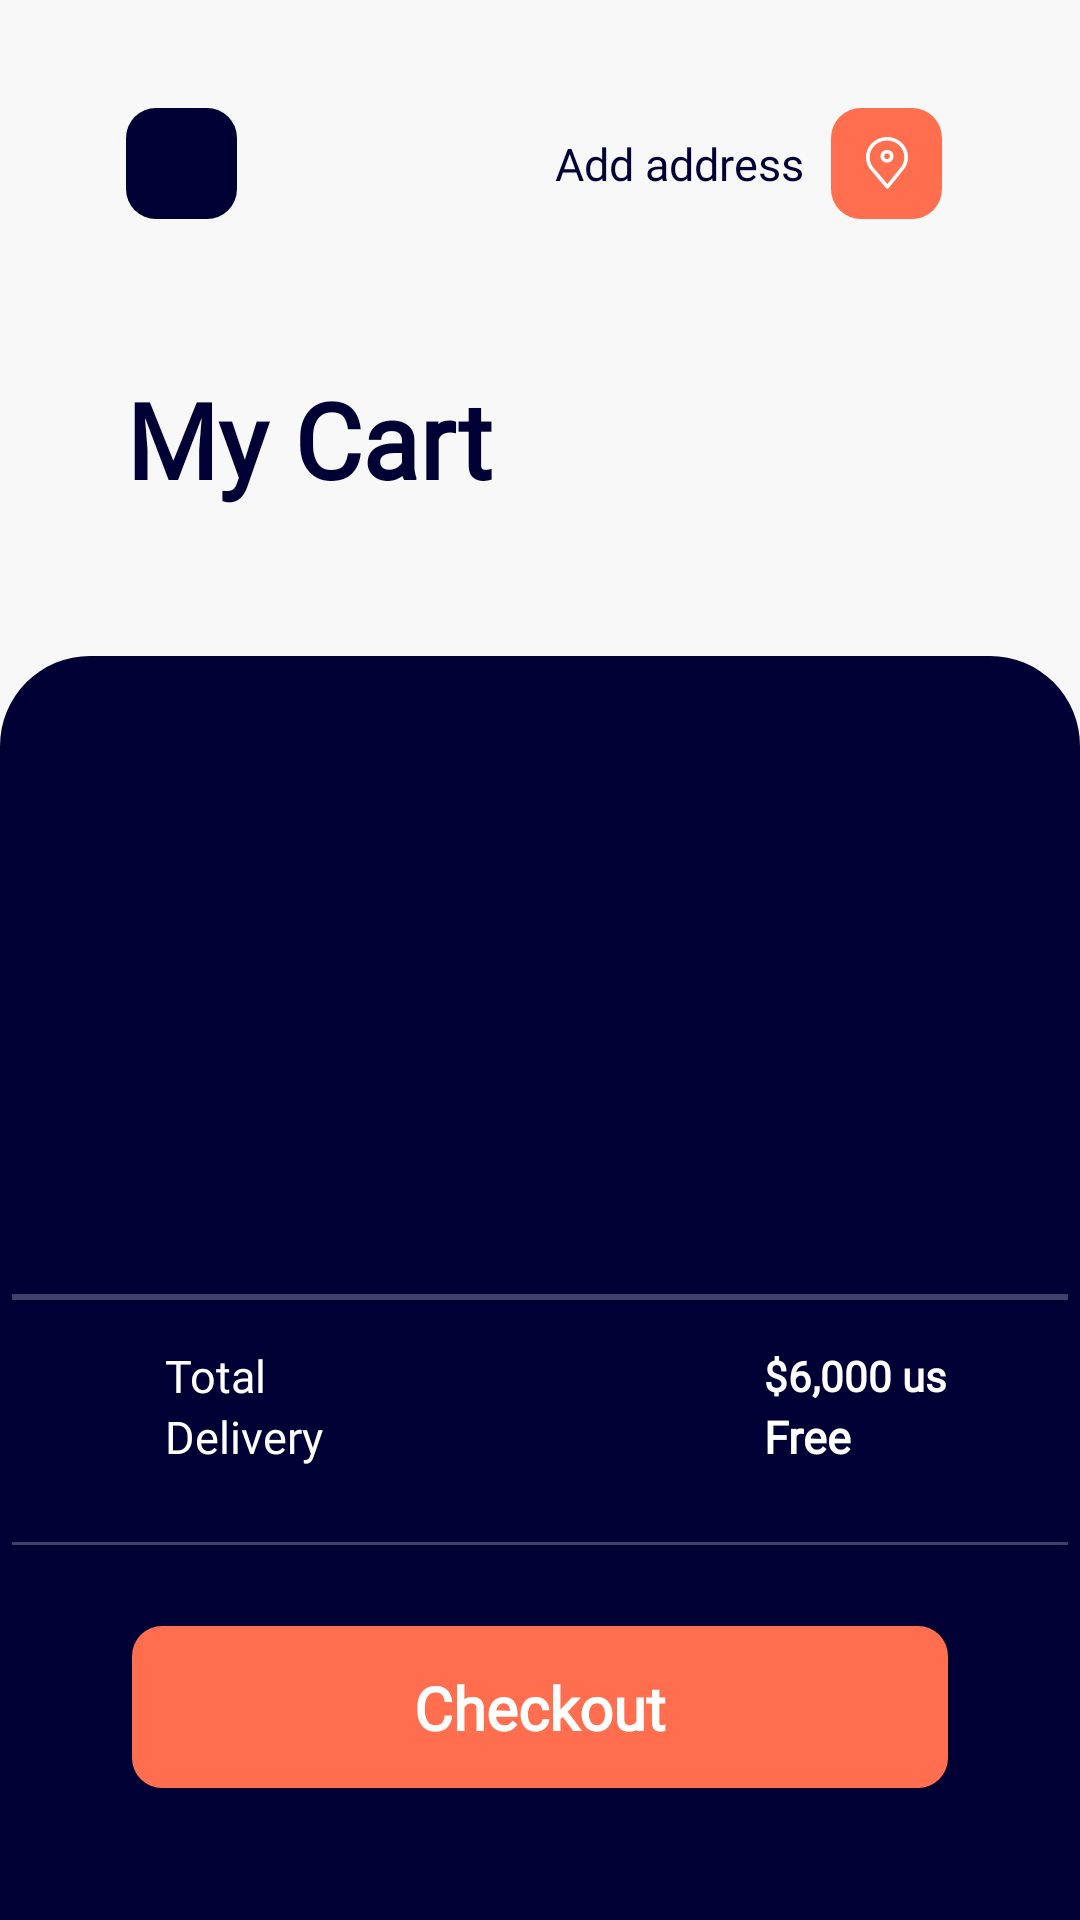

Screen size 1080 × 1920. Icon name, then its box in pixels as (x1, y1, x2, y2):
geopoint: (866, 137, 908, 189)
